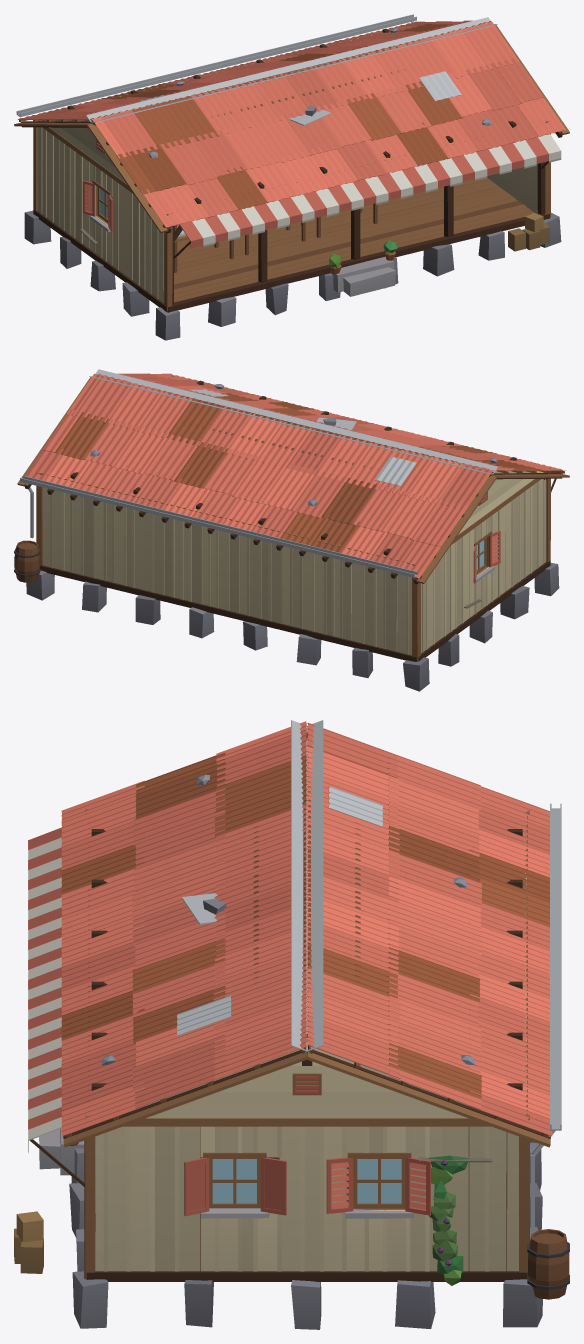
3 renders of one model, top to bottom at view 1: azimuth 30°, elevation 25°; view 2: azimuth 150°, elevation 25°; view 3: azimuth 270°, elevation 25°, orthographic. The views are drawn at different scales.
Parts seen in each view (by area): view 1: P01_ROOF, P01_BASE, P01_WALL_S, P01_WALL_W, P01_WALL_N, P01_WALL_E, P01_INTERIOR; view 2: P01_ROOF, P01_WALL_N, P01_WALL_W, P01_BASE; view 3: P01_ROOF, P01_WALL_E, P01_BASE, P01_WALL_S, P01_WALL_N.
Part boxes in pixels (box(x1,y1,x2,y2)): P01_ROOF: box(14, 17, 569, 233); P01_BASE: box(24, 178, 561, 340); P01_WALL_S: box(172, 134, 561, 304); P01_WALL_W: box(33, 119, 172, 311); P01_WALL_N: box(16, 14, 416, 132); P01_WALL_E: box(411, 23, 550, 217); P01_INTERIOR: box(174, 203, 377, 272); P01_ROOF: box(17, 369, 569, 584); P01_WALL_N: box(14, 473, 417, 661); P01_WALL_W: box(412, 468, 550, 661); P01_BASE: box(26, 560, 559, 691); P01_ROOF: box(61, 720, 552, 1147); P01_WALL_E: box(85, 1034, 529, 1285); P01_BASE: box(39, 1128, 542, 1329); P01_WALL_S: box(14, 827, 89, 1273); P01_WALL_N: box(519, 803, 569, 1299).
Size of the model in its own units: 10.88 by 4.38 by 7.69.
